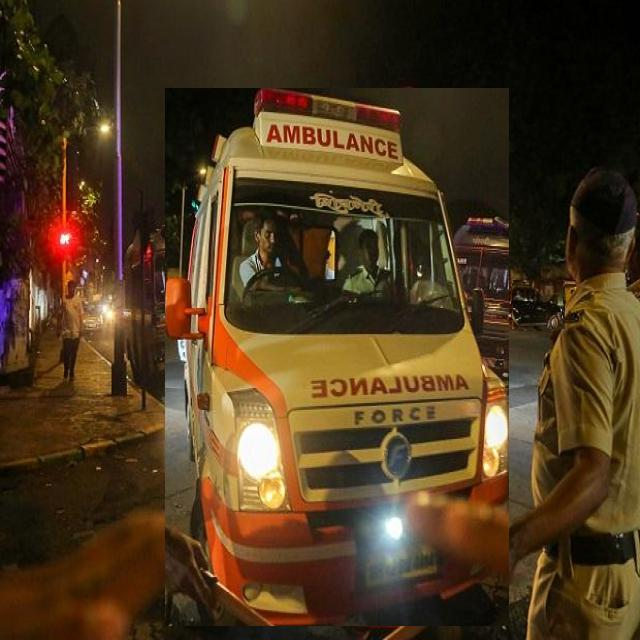car: (512, 282, 564, 329)
emergency: (165, 88, 509, 626)
truck: (124, 215, 220, 398)
